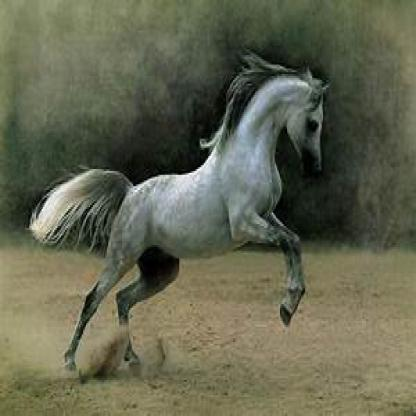horse: (32, 49, 333, 374)
